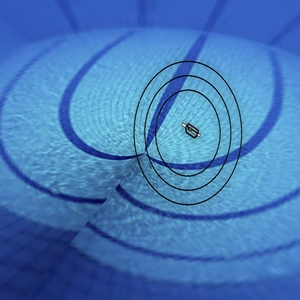circle: (128, 48, 245, 215)
submarine: (176, 113, 203, 148)
